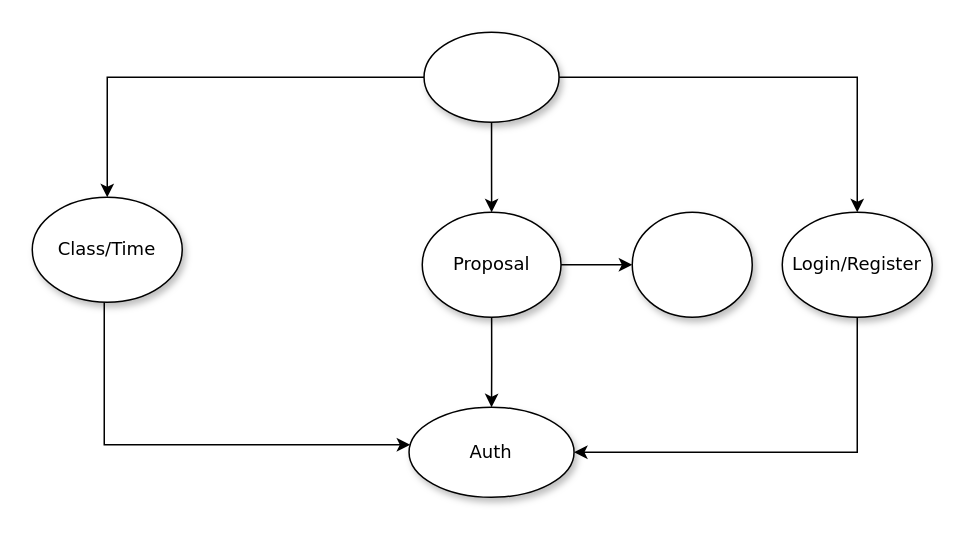
Some shapes in this 968 by 534 pixel diagram are drawn without their labels. Each missing label, with the centre of its shape:
NLP: the point at 693,266
Web Proxy: the point at 492,79
